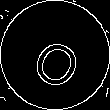O_NE: (24, 22, 86, 88)
